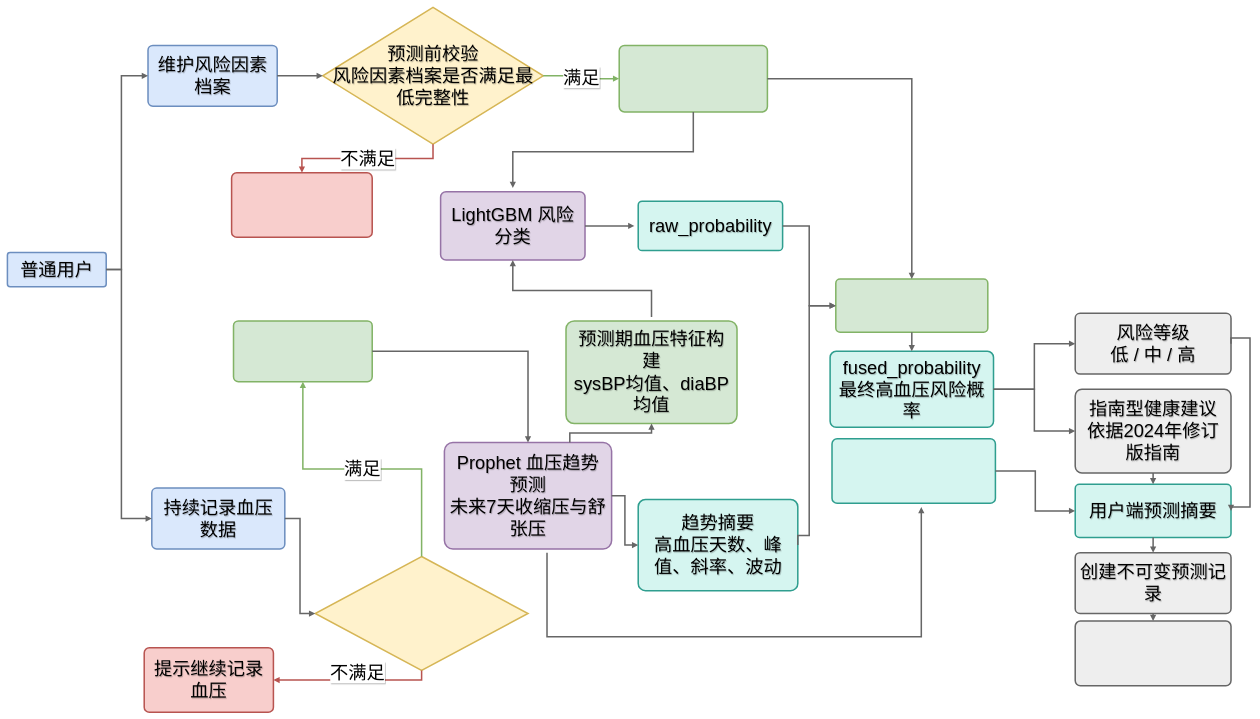
This 1260x719 diagram has some shape labels left out. The centre of each missing label's shape, as x and y in pixels:
"提示完善风险因素档案" belongs at point (302, 205).
"未来7天血压趋势图" belongs at point (913, 471).
"生成每日血压序列" belongs at point (303, 351).
"读取用户个人风险因素" belongs at point (693, 78).
"趋势融合策略" belongs at point (911, 305).
"预测前校验 血压自然日是否满足最低要求" belongs at point (421, 613).
"预测历史与预测结果治理" belongs at point (1153, 653).
